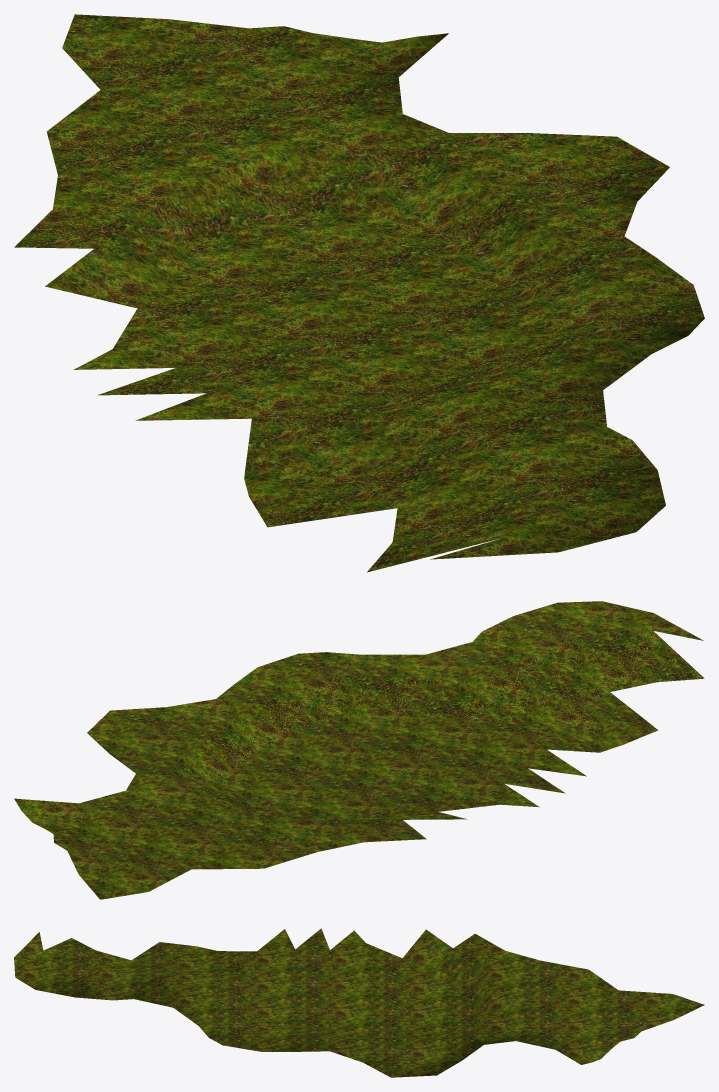
Rendered from TROLLHOLE02_LUKEGROUND.fbx.
3 renders of one model, top to bottom at view 1: azimuth 30°, elevation 25°; view 2: azimuth 150°, elevation 25°; view 3: azimuth 270°, elevation 25°, orthographic. The views are drawn at different scales.
Visible parts, largest first — view 1: TROLLHOLE02_LUKEGROUND; view 2: TROLLHOLE02_LUKEGROUND; view 3: TROLLHOLE02_LUKEGROUND.
Boxes of the visible parts, x1,y1,x2,y2 form: TROLLHOLE02_LUKEGROUND: (14, 14, 704, 572); TROLLHOLE02_LUKEGROUND: (14, 601, 704, 899); TROLLHOLE02_LUKEGROUND: (14, 928, 704, 1077).
Size of the model in its own units: 290444 by 21968 by 527387.
1 material, 1 textured.
